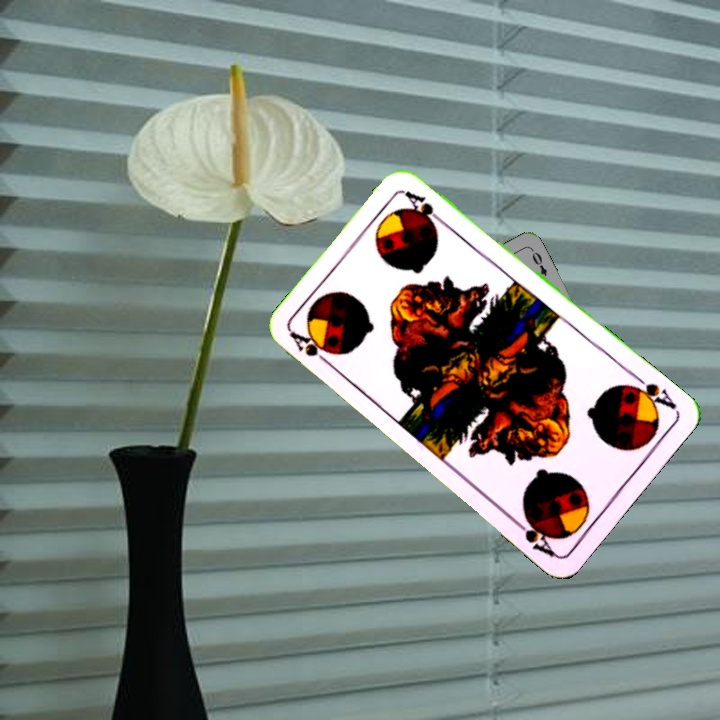SA: (622, 370, 679, 414), (286, 328, 337, 371)
